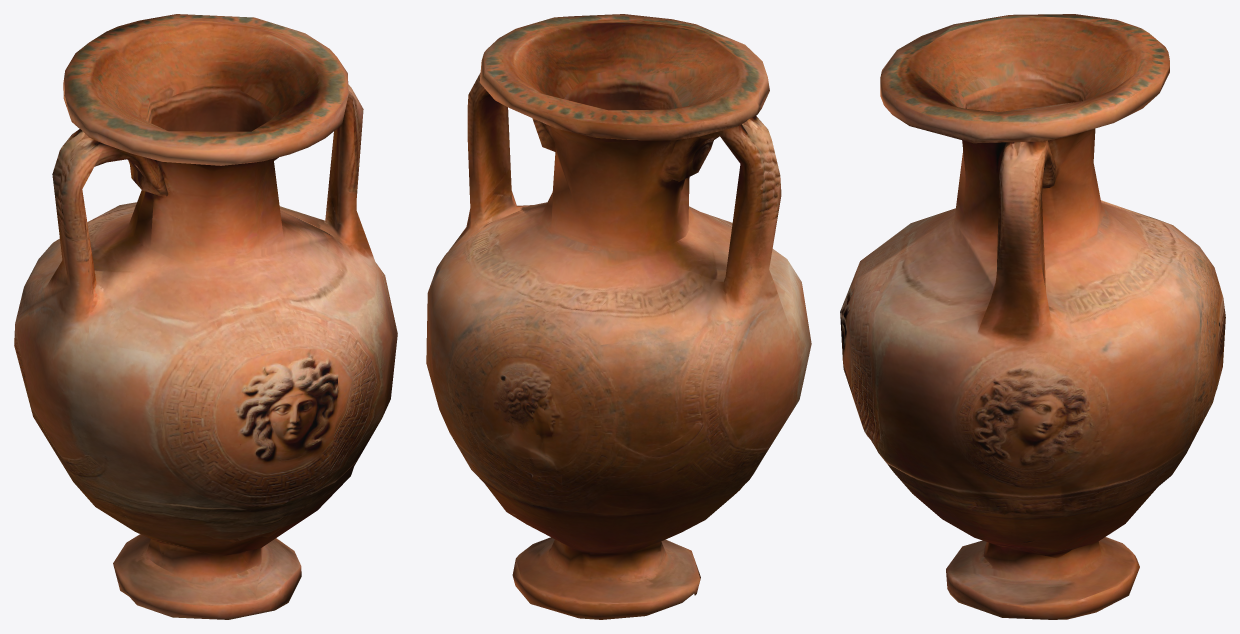
3 renders of one model, left to right at view 1: azimuth 30°, elevation 25°; view 2: azimuth 150°, elevation 25°; view 3: azimuth 270°, elevation 25°, orthographic.
Size of the model in its own units: 1.34 by 1.99 by 1.33.
1 material, 1 textured.
